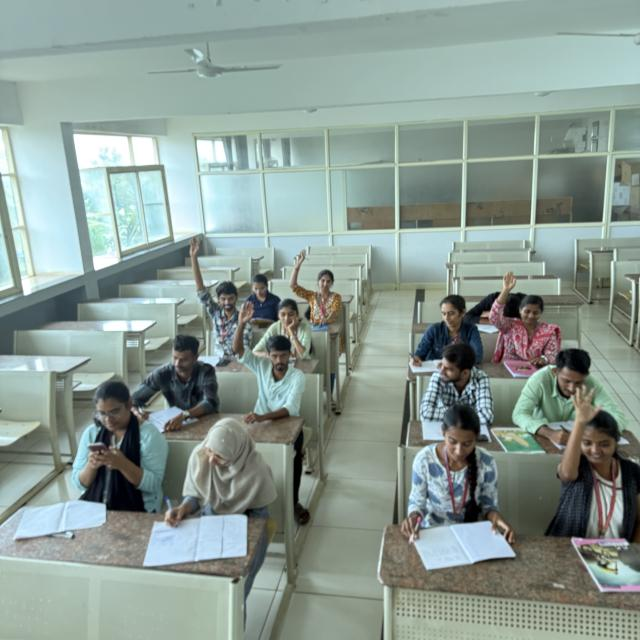Hand Rising: (561, 386, 636, 537), (227, 298, 303, 408), (185, 232, 248, 360), (487, 269, 557, 361), (290, 248, 344, 322)
Using Phone: (72, 377, 159, 500)
Writing: (404, 404, 510, 561), (159, 414, 260, 533), (406, 290, 484, 374)
